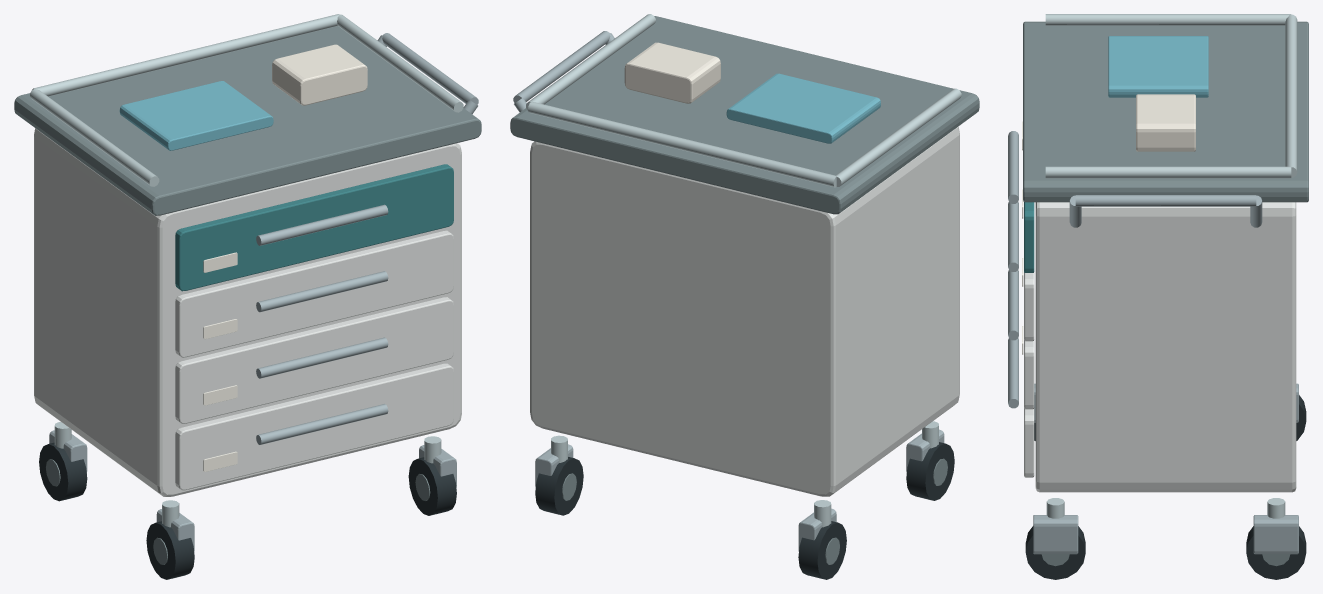
File: supply-cart.glb
3 renders of one model, left to right at view 1: azimuth 30°, elevation 25°; view 2: azimuth 150°, elevation 25°; view 3: azimuth 270°, elevation 25°, orthographic. The views are drawn at different scales.
Parts seen in each view (by area): view 1: supply-cart-batch (×6), drawer-4, wrapped-supply-pack, supply-cart; view 2: supply-cart-batch (×5), wrapped-supply-pack, supply-cart; view 3: supply-cart-batch (×5), wrapped-supply-pack, supply-cart, drawer-4.
Part boxes in pixels (box(x1,y1,x2,y2)): supply-cart-batch (×6): box(14, 14, 481, 579); drawer-4: box(175, 164, 453, 291); wrapped-supply-pack: box(119, 81, 273, 150); supply-cart: box(272, 44, 367, 105); supply-cart-batch (×5): box(510, 14, 979, 579); wrapped-supply-pack: box(726, 73, 880, 143); supply-cart: box(624, 42, 720, 103); supply-cart-batch (×5): box(1008, 14, 1308, 579); wrapped-supply-pack: box(1108, 36, 1208, 97); supply-cart: box(1136, 94, 1195, 151); drawer-4: box(1024, 202, 1034, 272).
Bounding box in the file's own units: 0.8314 × 0.96 × 0.6.
